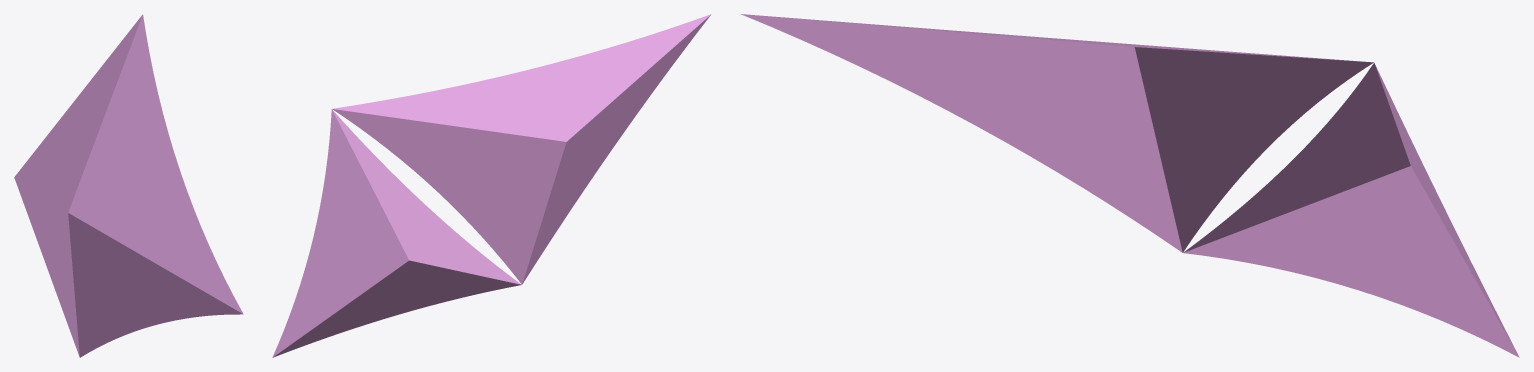
Rendered from TYPE8-2.glb.
The picture shows the model from 3 angles, left to right: view 1: azimuth 30°, elevation 25°; view 2: azimuth 150°, elevation 25°; view 3: azimuth 270°, elevation 25°; orthographic projection. The views are drawn at different scales.
Parts seen in each view (by area): view 1: TYPE8-2 (×3); view 2: TYPE8-2 (×6); view 3: TYPE8-2 (×6).
Part boxes in pixels (x1=…): TYPE8-2 (×3): x1=14, y1=14, x2=243, y2=357; TYPE8-2 (×6): x1=272, y1=14, x2=711, y2=357; TYPE8-2 (×6): x1=741, y1=14, x2=1519, y2=357.
Size of the model in its own units: 3.69 by 4.8 by 11.65.
